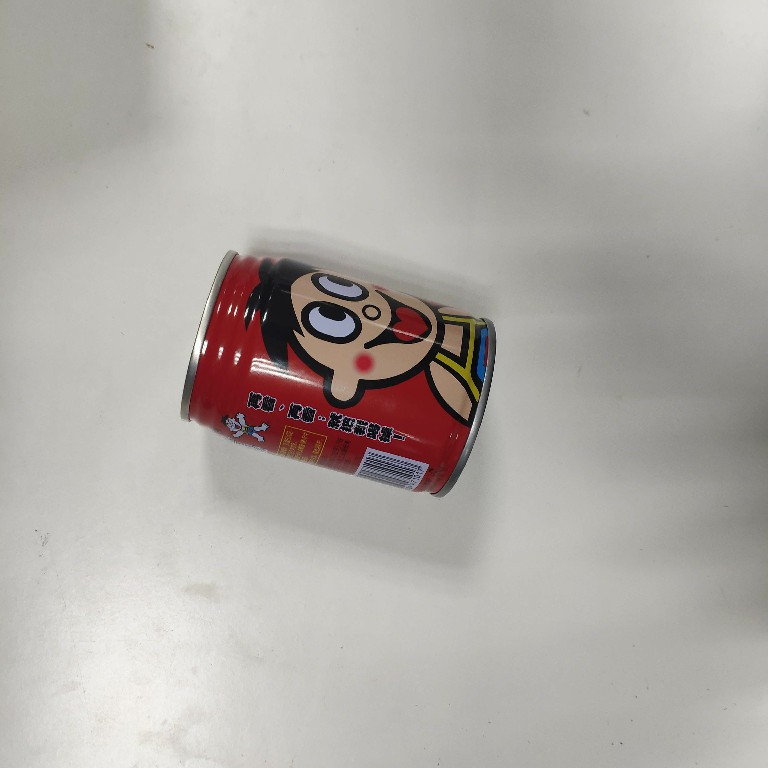can: (176, 247, 498, 501)
